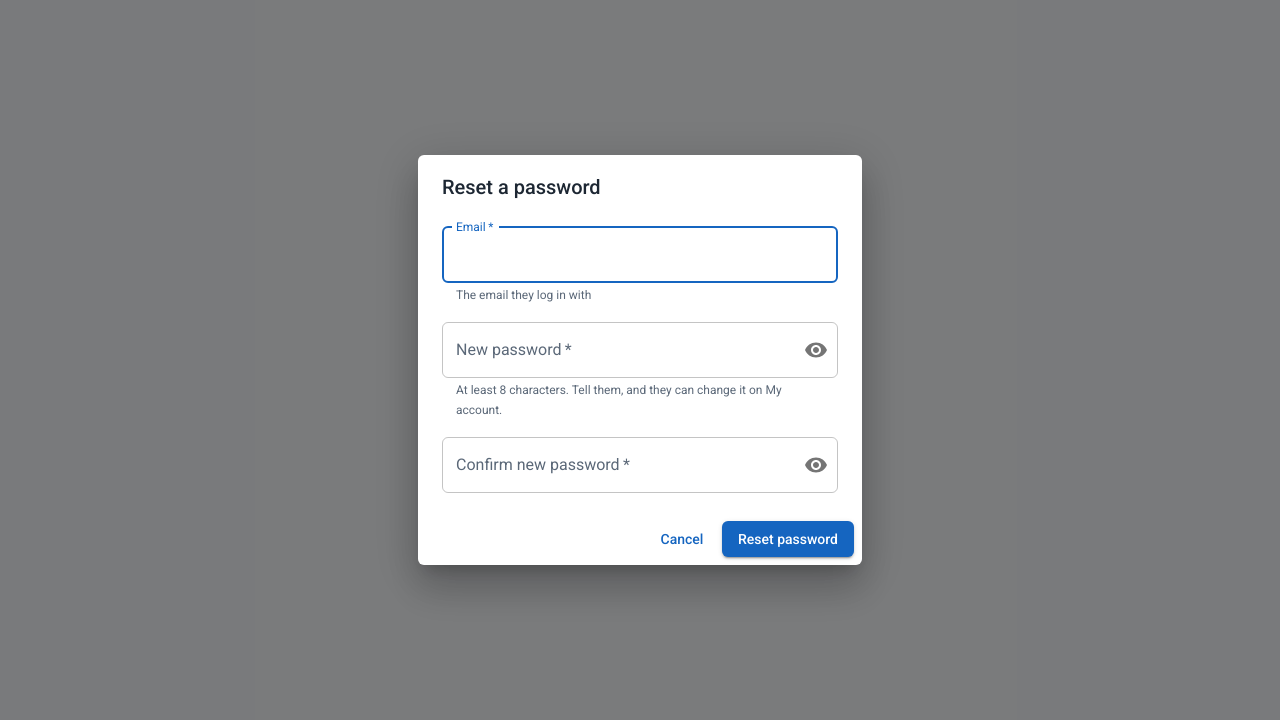
it: PasswordResetDialog › shows "No account uses this email" under the email box
This screenshot has width=1280, height=720.
Type "mary@acme.inc" into the field labelled "Email" at (640, 255), box 442,227 -> 838,283
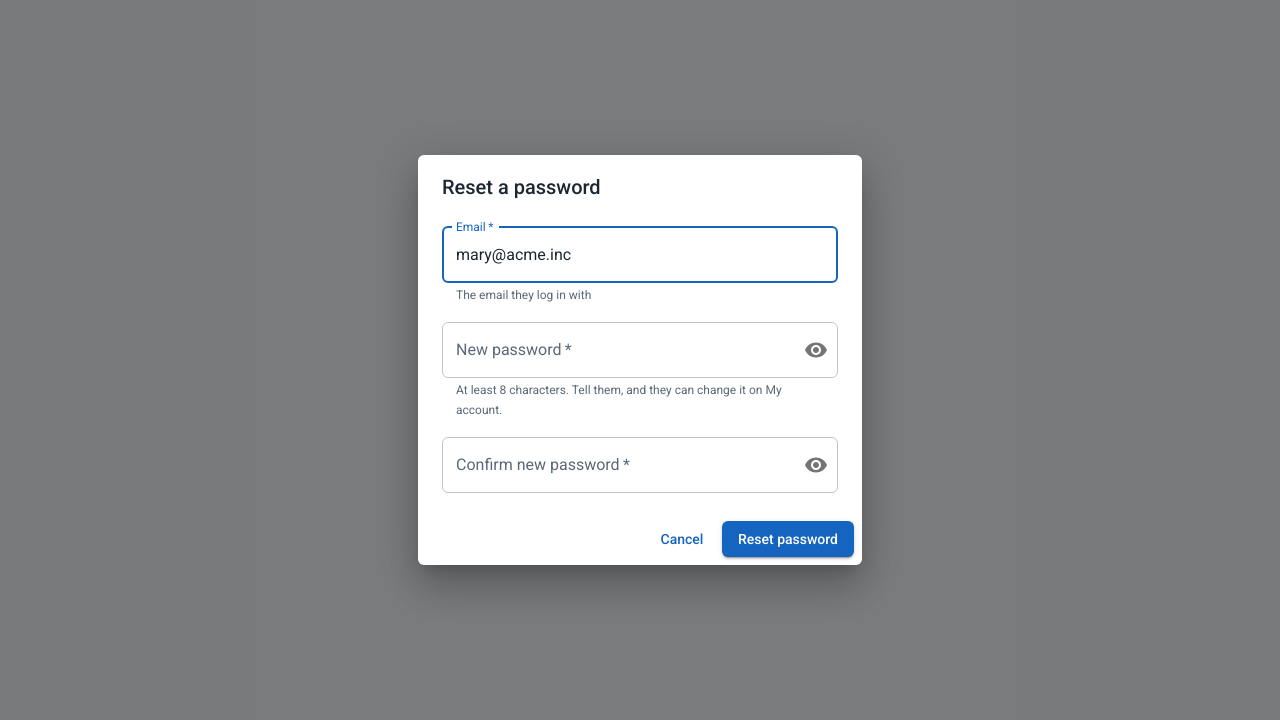
Type "newpass123" into the password field labelled "New password *" at (615, 350), box 442,322 -> 788,378
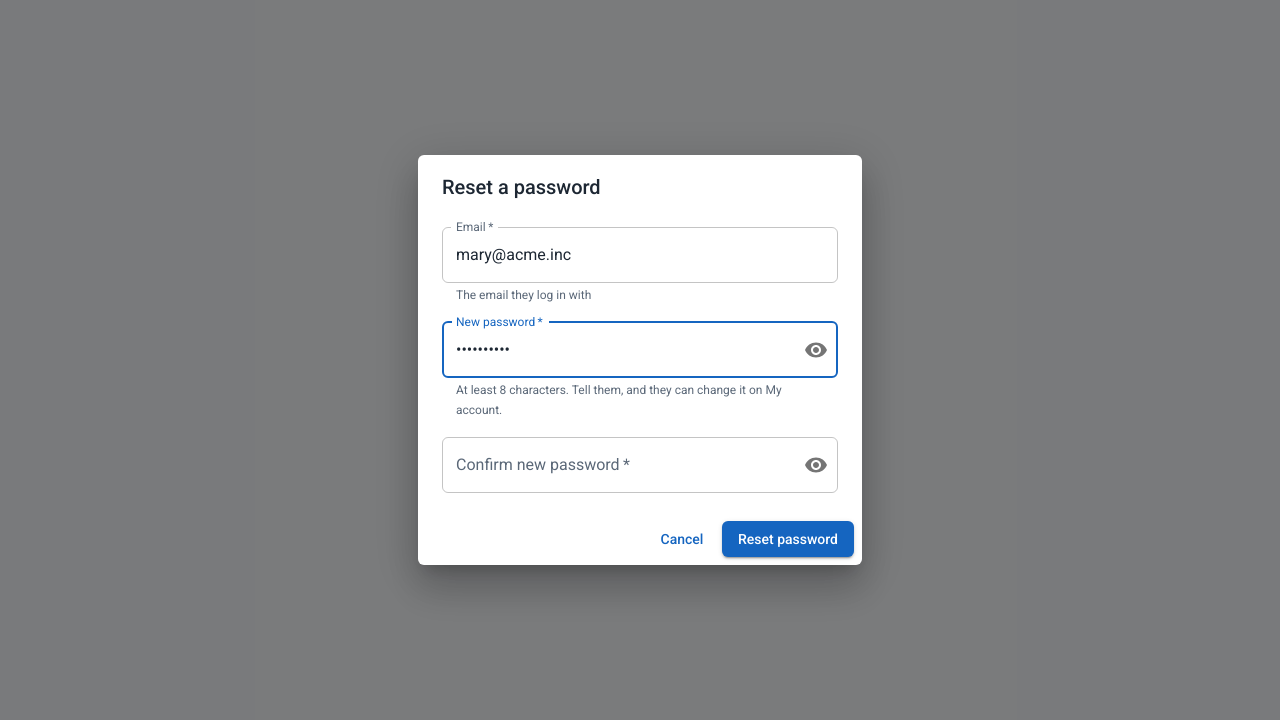
Type "newpass123" into the password field labelled "Confirm new password *" at (615, 465), box 442,437 -> 788,493
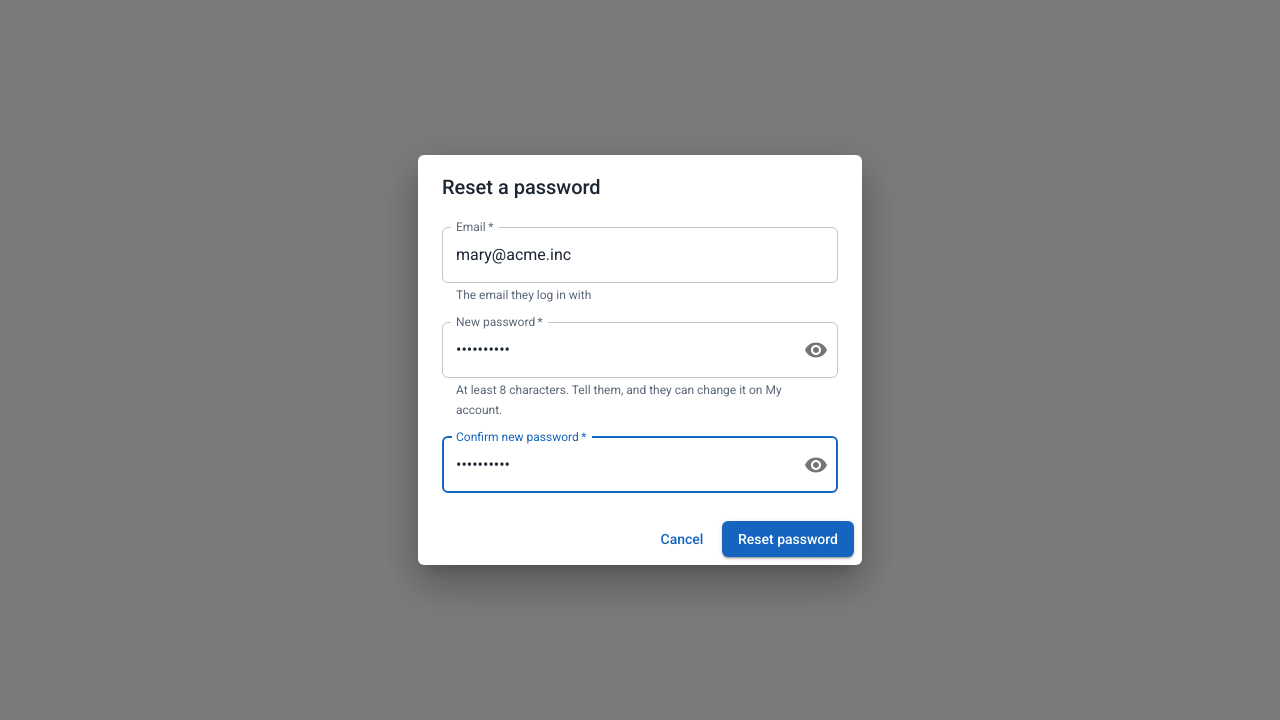
Click the button "Reset password" at (788, 539), box 722,521 -> 854,557
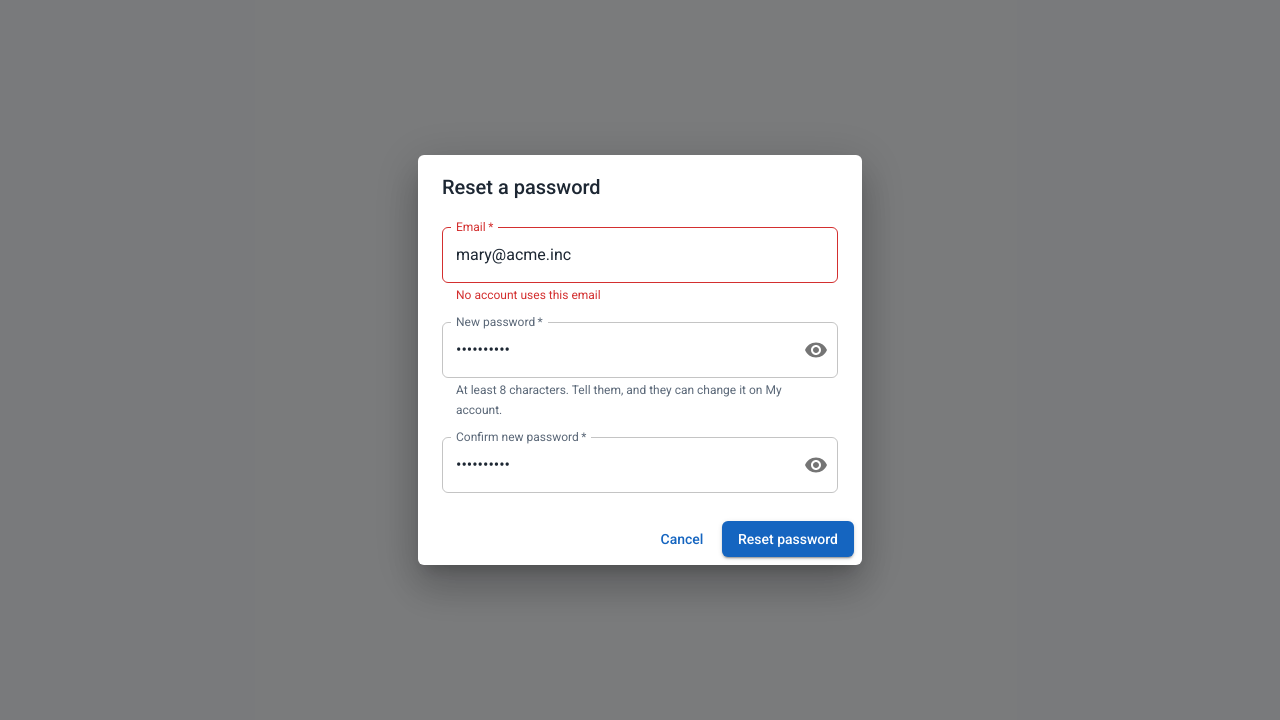
Now the text "No account uses this email" is shown, box 456,288 -> 601,302
